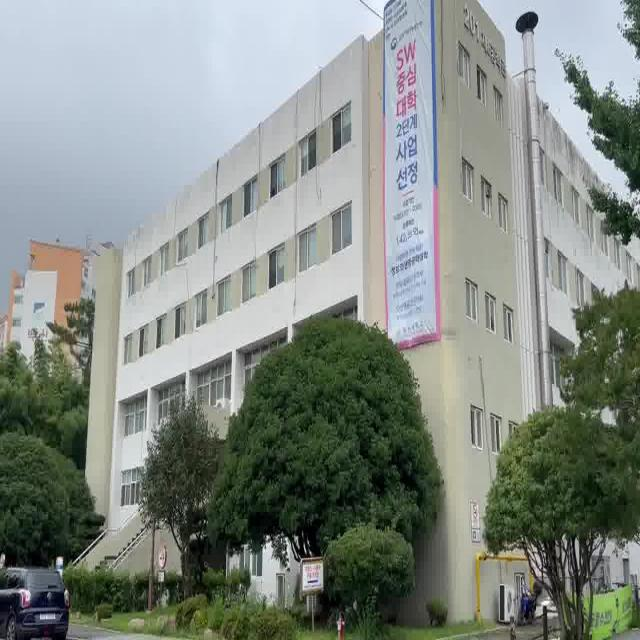building: (93, 70, 378, 335)
